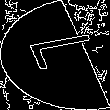L_E: (11, 33, 99, 77)
